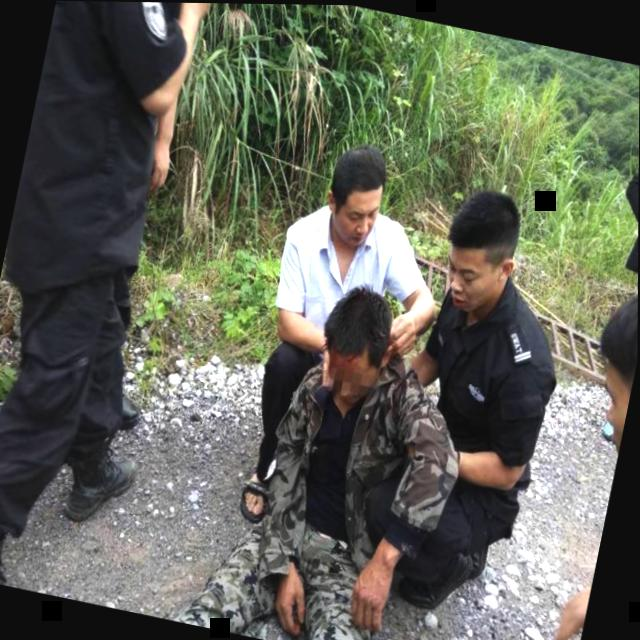Fall-Detected: (186, 242, 485, 640)
